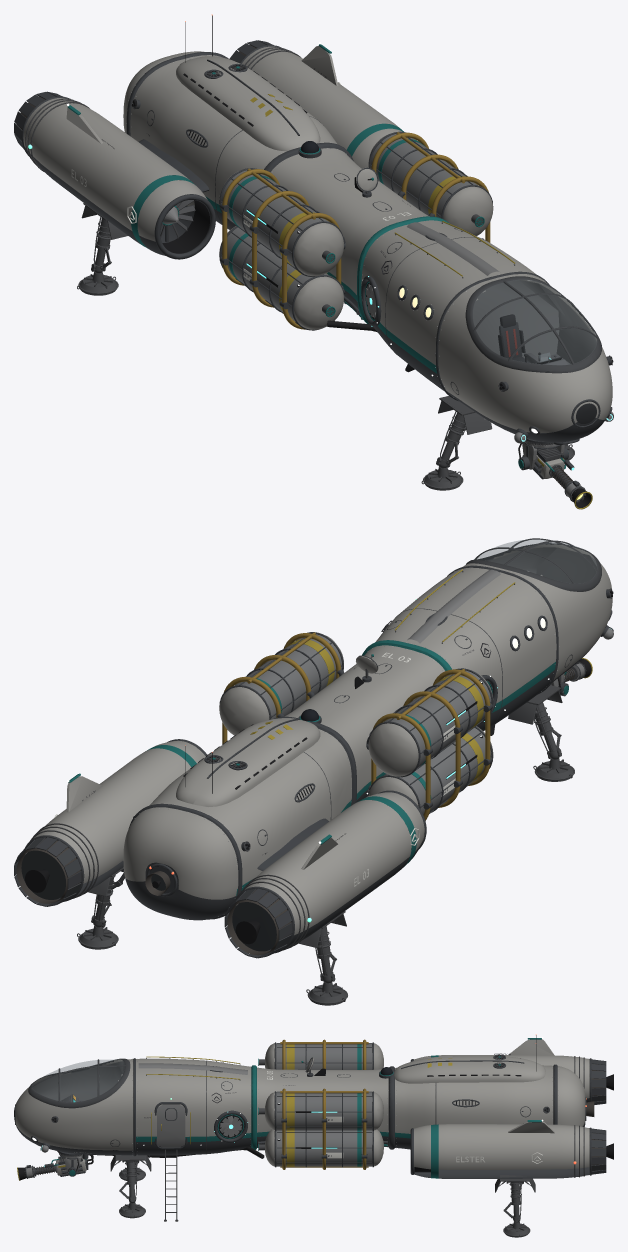
File: Elster.e3dc10f2db.glb
3 renders of one model, top to bottom at view 1: azimuth 30°, elevation 25°; view 2: azimuth 150°, elevation 25°; view 3: azimuth 270°, elevation 25°, orthographic. The views are drawn at different scales.
Parts seen in each view (by area): view 1: Gondel links.001, Antennenfuss.002, Erzkanister.004, Flosse.002, HUD-Scheibe.001, Cockpitwanne.001, Klammerschiene.004, Abstreifer.004, Bauchklappe.012, Ablauf.006, Blendenlamelle.008, Antriebsdeckel.001 (+2 smaller); view 2: Gondel links.001, Antennenfuss.002, Erzkanister.004, Flosse.002, Abstreifer.004, Klammerschiene.004, HUD-Scheibe.001, Glut.002, Bauchklappe.012, Cockpitwanne.001, Ablauf.006, Duesenglocke.002 (+4 smaller); view 3: Gondel links.001, Erzkanister.004, Antennenfuss.002, Flosse.002, Abstreifer.004, Fokuseinheit.001, HUD-Scheibe.001, Cockpitwanne.001, Klammerschiene.004, Bauchklappe.012, Griff.005, Antriebsdeckel.001 (+4 smaller).
Part boxes in pixels (x1=…): Gondel links.001: x1=23, y1=46, x2=612, y2=442; Antennenfuss.002: x1=14, y1=40, x2=613, y2=501; Erzkanister.004: x1=221, y1=134, x2=477, y2=321; Flosse.002: x1=66, y1=46, x2=564, y2=478; HUD-Scheibe.001: x1=473, y1=280, x2=596, y2=364; Cockpitwanne.001: x1=473, y1=280, x2=596, y2=363; Klammerschiene.004: x1=222, y1=132, x2=490, y2=329; Abstreifer.004: x1=77, y1=203, x2=574, y2=490; Bauchklappe.012: x1=147, y1=110, x2=601, y2=394; Ablauf.006: x1=132, y1=15, x2=613, y2=507; Blendenlamelle.008: x1=25, y1=47, x2=612, y2=502; Antriebsdeckel.001: x1=68, y1=44, x2=568, y2=471; Gondel links.001: x1=25, y1=544, x2=612, y2=950; Antennenfuss.002: x1=14, y1=565, x2=613, y2=958; Erzkanister.004: x1=234, y1=634, x2=491, y2=814; Flosse.002: x1=66, y1=635, x2=564, y2=869; Abstreifer.004: x1=77, y1=685, x2=574, y2=1005; Klammerschiene.004: x1=222, y1=632, x2=490, y2=820; HUD-Scheibe.001: x1=473, y1=539, x2=596, y2=582; Glut.002: x1=21, y1=850, x2=276, y2=951; Bauchklappe.012: x1=257, y1=538, x2=601, y2=845; Cockpitwanne.001: x1=488, y1=547, x2=596, y2=583; Ablauf.006: x1=25, y1=591, x2=613, y2=944; Duesenglocke.002: x1=16, y1=668, x2=574, y2=955; Gondel links.001: x1=15, y1=1055, x2=589, y2=1178; Erzkanister.004: x1=276, y1=1043, x2=372, y2=1166; Antennenfuss.002: x1=15, y1=1042, x2=606, y2=1178; Flosse.002: x1=56, y1=1039, x2=554, y2=1175; Abstreifer.004: x1=110, y1=1149, x2=535, y2=1237; Fokuseinheit.001: x1=26, y1=1063, x2=247, y2=1178; HUD-Scheibe.001: x1=33, y1=1059, x2=123, y2=1101; Cockpitwanne.001: x1=33, y1=1061, x2=124, y2=1100; Klammerschiene.004: x1=280, y1=1039, x2=368, y2=1169; Bauchklappe.012: x1=28, y1=1058, x2=531, y2=1155; Griff.005: x1=17, y1=1044, x2=452, y2=1180; Antriebsdeckel.001: x1=51, y1=1038, x2=541, y2=1175.
Size of the model in its own units: 8.49 by 6.62 by 23.1.
